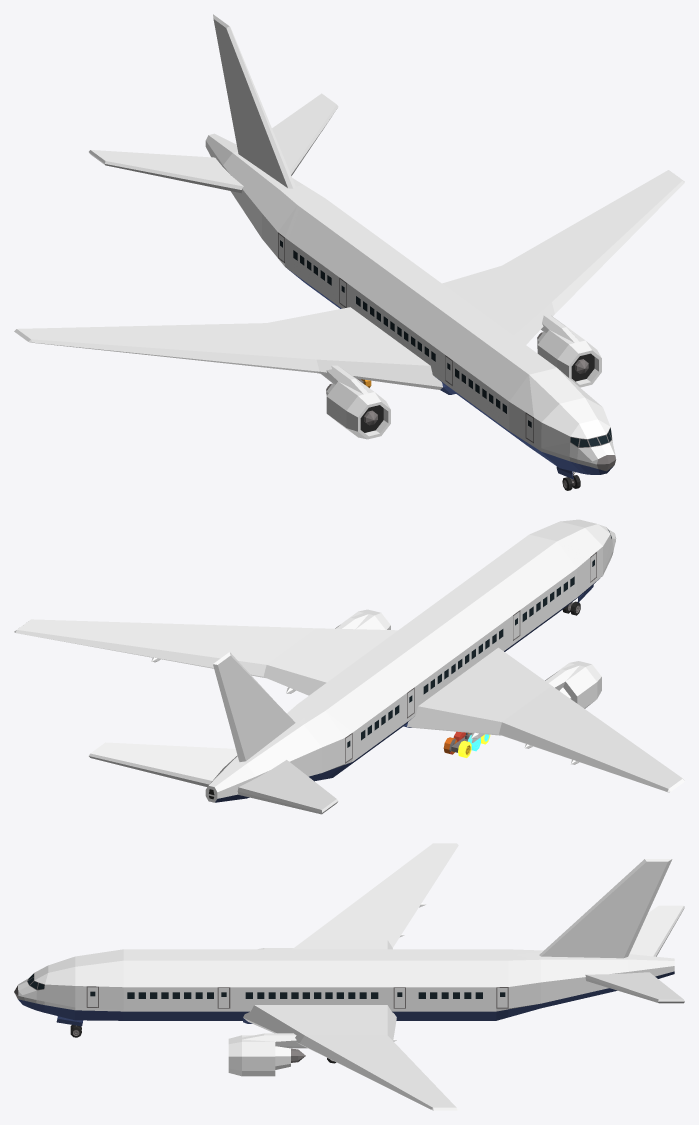
The model's file is plane-passenger.glb.
3 renders of one model, top to bottom at view 1: azimuth 30°, elevation 25°; view 2: azimuth 150°, elevation 25°; view 3: azimuth 270°, elevation 25°, orthographic. The views are drawn at different scales.
Parts seen in each view (by area): view 1: plane-passenger-base; view 2: plane-passenger-base; view 3: plane-passenger-base.
Boxes of the visible parts, x1,y1,x2,y2 form: plane-passenger-base: (14,14,684,483); plane-passenger-base: (14,519,684,814); plane-passenger-base: (14,843,684,1110).
Size of the model in its own units: 60.97 by 18.84 by 64.92.
Materials: 1 (1 with a texture image).
